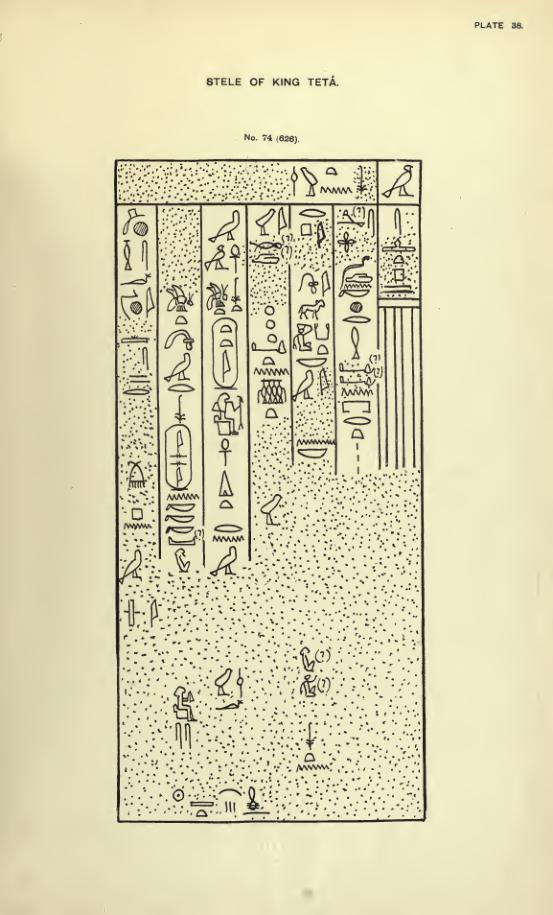circle: (209, 316, 242, 391), (163, 423, 198, 491)
